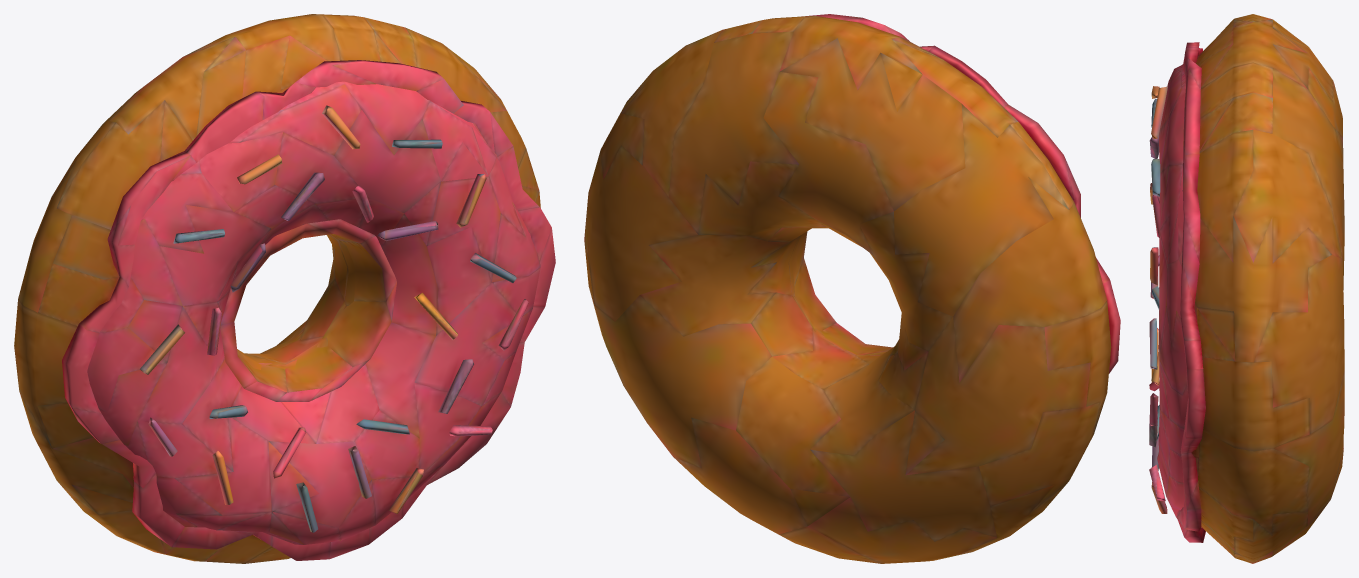
File: donut.glb
The picture shows the model from 3 angles, left to right: view 1: azimuth 30°, elevation 25°; view 2: azimuth 150°, elevation 25°; view 3: azimuth 270°, elevation 25°; orthographic projection. The views are drawn at different scales.
Parts seen in each view (by area): view 1: geometry_0; view 2: geometry_0; view 3: geometry_0.
Part boxes in pixels (x1,y1,x2,y2): geometry_0: [14, 14, 555, 563]; geometry_0: [584, 14, 1120, 563]; geometry_0: [1149, 14, 1344, 563].
Bounding box in the file's own units: 1 × 0.9993 × 0.3551.
Materials: 1 (1 with a texture image).
